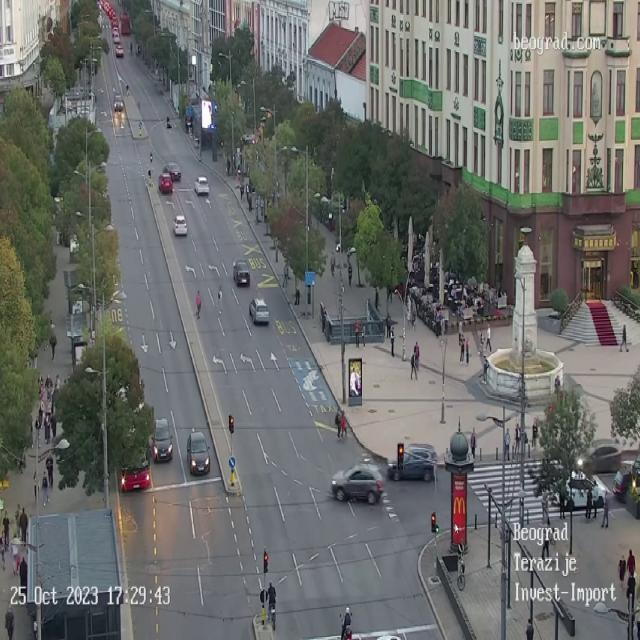bus: (120, 13, 131, 39)
car: (331, 464, 383, 505), (557, 472, 603, 510), (574, 440, 620, 471), (391, 444, 433, 476), (615, 458, 640, 506), (118, 460, 152, 493), (187, 431, 210, 476), (152, 418, 173, 463), (249, 297, 269, 325), (232, 260, 250, 286), (173, 214, 187, 236), (158, 171, 172, 193), (194, 176, 209, 196), (112, 91, 124, 112), (168, 160, 179, 180), (113, 33, 120, 48), (116, 46, 124, 55)
